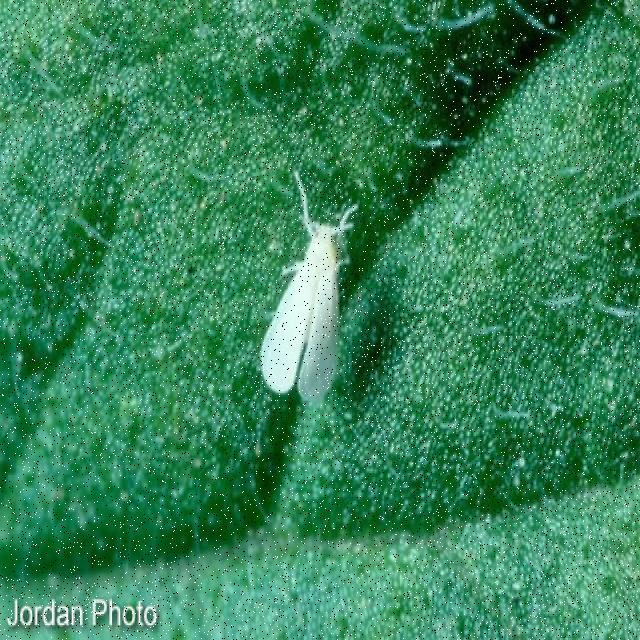Whiteflies: (183, 168, 410, 461)
